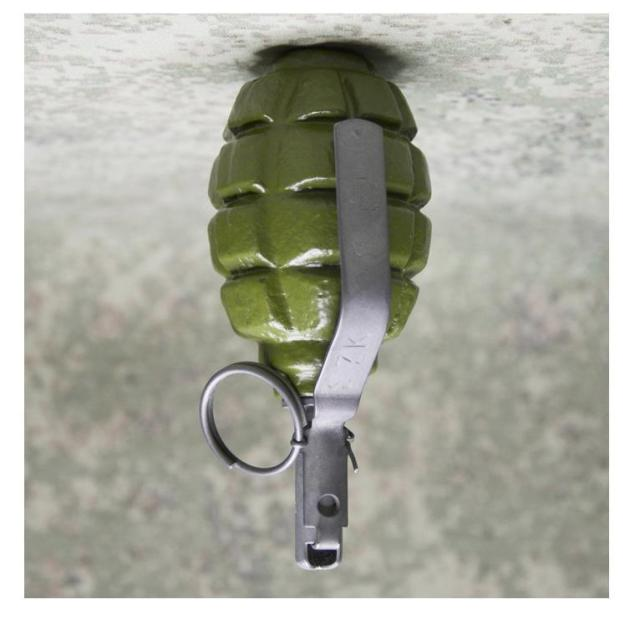grenade: (201, 57, 433, 570)
